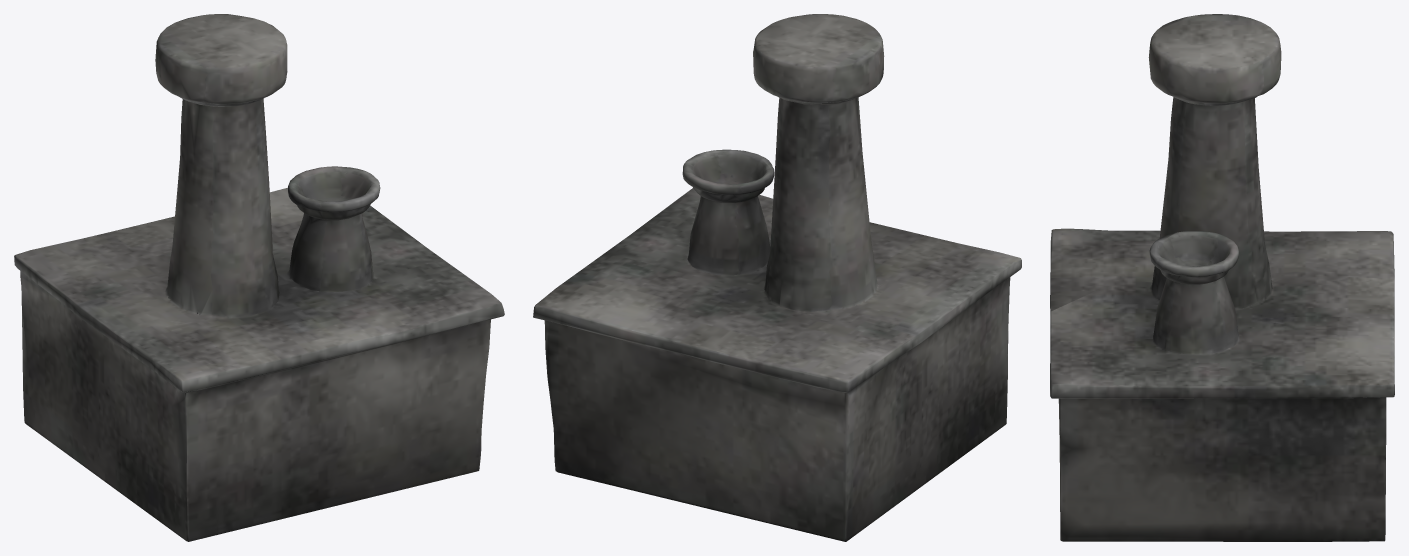
The model's file is rustic-granite-chimney-stack-v001.glb.
The picture shows the model from 3 angles, left to right: view 1: azimuth 30°, elevation 25°; view 2: azimuth 150°, elevation 25°; view 3: azimuth 270°, elevation 25°; orthographic projection.
Visible parts, largest first — view 1: rustic-granite-chimney-stack; view 2: rustic-granite-chimney-stack; view 3: rustic-granite-chimney-stack.
Boxes of the visible parts, x1,y1,x2,y2 form: rustic-granite-chimney-stack: [14, 14, 504, 541]; rustic-granite-chimney-stack: [533, 14, 1021, 541]; rustic-granite-chimney-stack: [1050, 14, 1394, 541].
Bounding box in the file's own units: 1.16 × 1.44 × 1.08.
Materials: 1 (1 with a texture image).
